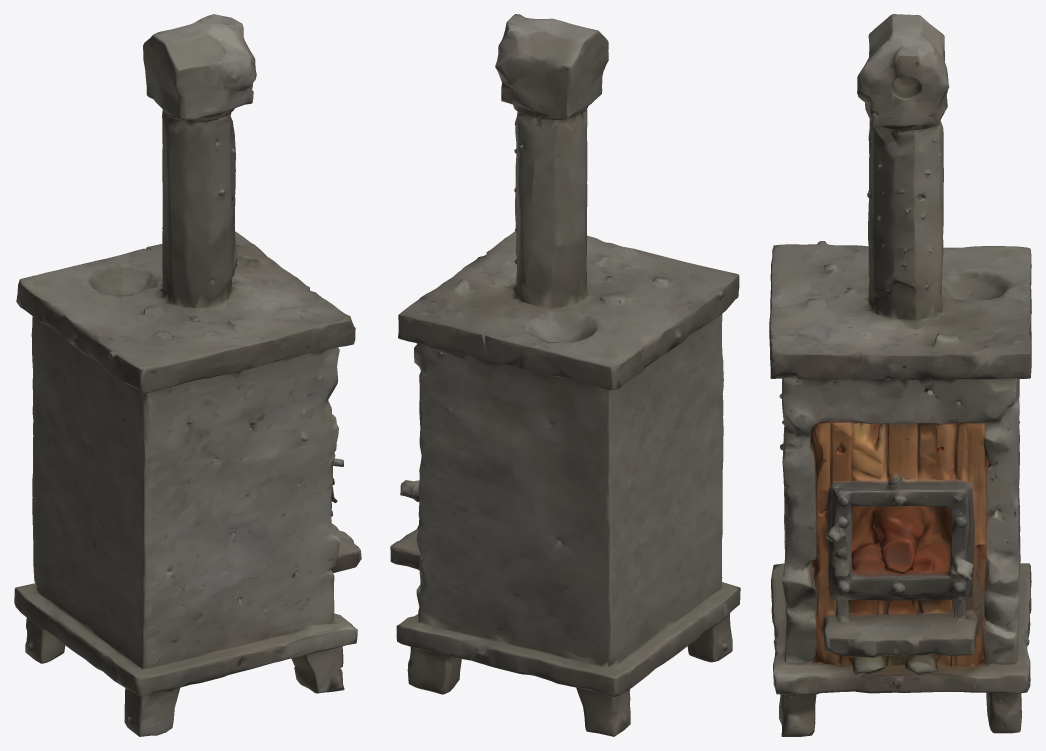
File: stove.glb
The picture shows the model from 3 angles, left to right: view 1: azimuth 30°, elevation 25°; view 2: azimuth 150°, elevation 25°; view 3: azimuth 270°, elevation 25°; orthographic projection. The views are drawn at different scales.
Visible parts, largest first — view 1: tripo_node_a4c64cd2-f748-4bd2-9d64-d58edb829594; view 2: tripo_node_a4c64cd2-f748-4bd2-9d64-d58edb829594; view 3: tripo_node_a4c64cd2-f748-4bd2-9d64-d58edb829594.
Boxes of the visible parts, box(x1,y1,x2,y2) form: tripo_node_a4c64cd2-f748-4bd2-9d64-d58edb829594: box(14, 14, 361, 736); tripo_node_a4c64cd2-f748-4bd2-9d64-d58edb829594: box(390, 14, 740, 736); tripo_node_a4c64cd2-f748-4bd2-9d64-d58edb829594: box(769, 14, 1031, 736).
Size of the model in its own units: 0.4261 by 1 by 0.3601.
Materials: 1 (1 with a texture image).
